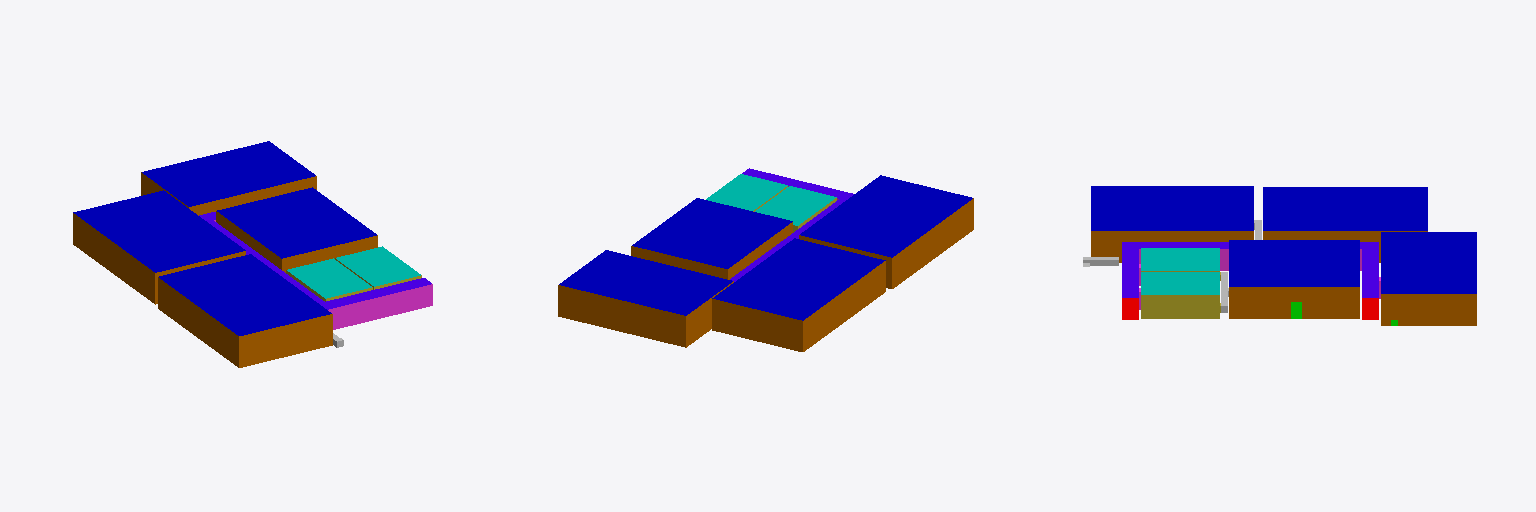
The model's file is LabOeste.obj.
The picture shows the model from 3 angles: view 1: azimuth 30°, elevation 25°; view 2: azimuth 150°, elevation 25°; view 3: azimuth 270°, elevation 25°; orthographic projection.
Parts seen in each view (by area): view 1: Plane.002; view 2: Plane.002; view 3: Plane.002.
Part boxes in pixels (bbox=[...]): Plane.002: bbox=[73, 141, 432, 367]; Plane.002: bbox=[558, 168, 973, 351]; Plane.002: bbox=[1083, 186, 1476, 325].
Bounding box in the file's own units: 29.35 × 4 × 44.84.